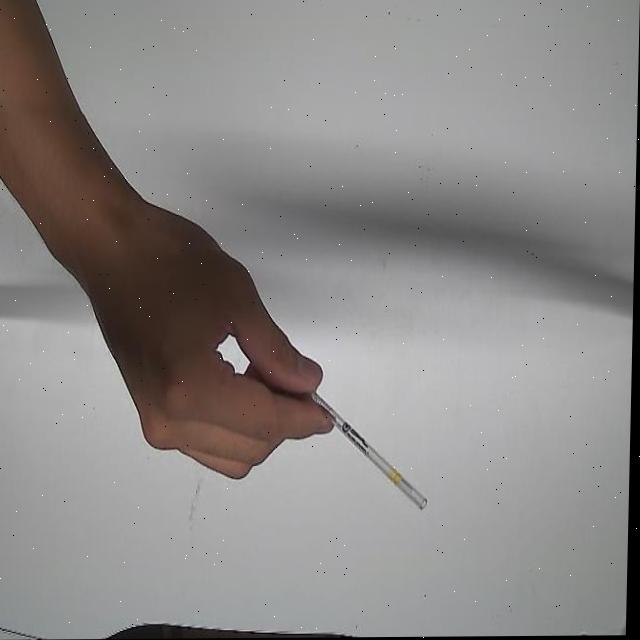Serelogical Pipet 1 mL: (263, 350, 434, 517)
